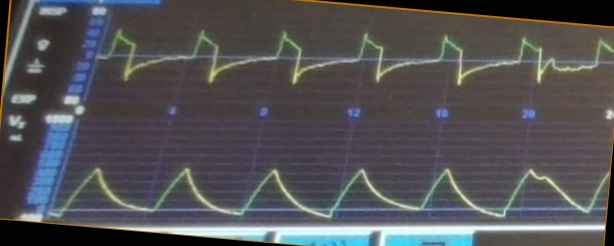Premature_cycling Flow: (104, 24, 612, 97)
Premature_cycling Volume: (62, 161, 605, 220)
